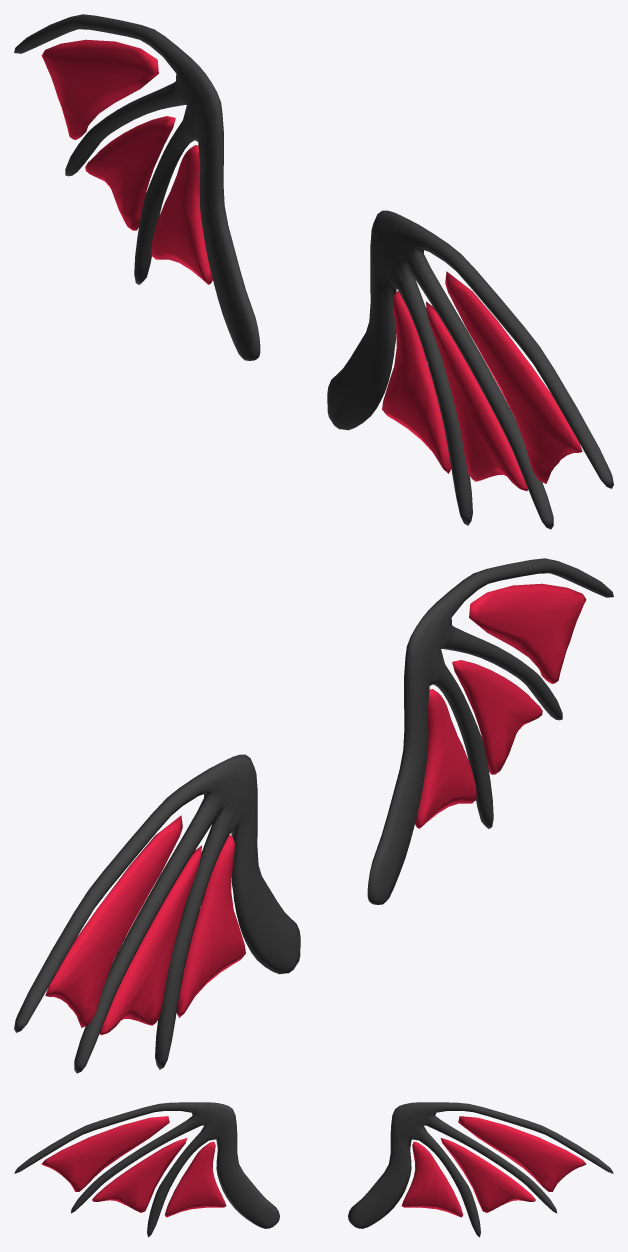
The model's file is Devil_Wings.fbx.
3 renders of one model, top to bottom at view 1: azimuth 30°, elevation 25°; view 2: azimuth 150°, elevation 25°; view 3: azimuth 270°, elevation 25°, orthographic. The views are drawn at different scales.
Parts seen in each view (by area): view 1: DevilWing, DevilWing_s; view 2: DevilWing, DevilWing_s; view 3: DevilWing_s, DevilWing.
Part boxes in pixels (x1,y1,x2,y2): DevilWing: (14,14,613,529); DevilWing_s: (41,39,582,490); DevilWing: (14,558,613,1073); DevilWing_s: (45,583,586,1034); DevilWing_s: (41,1116,586,1217); DevilWing: (14,1102,613,1237).
Size of the model in its own units: 14.6 by 115 by 464.
